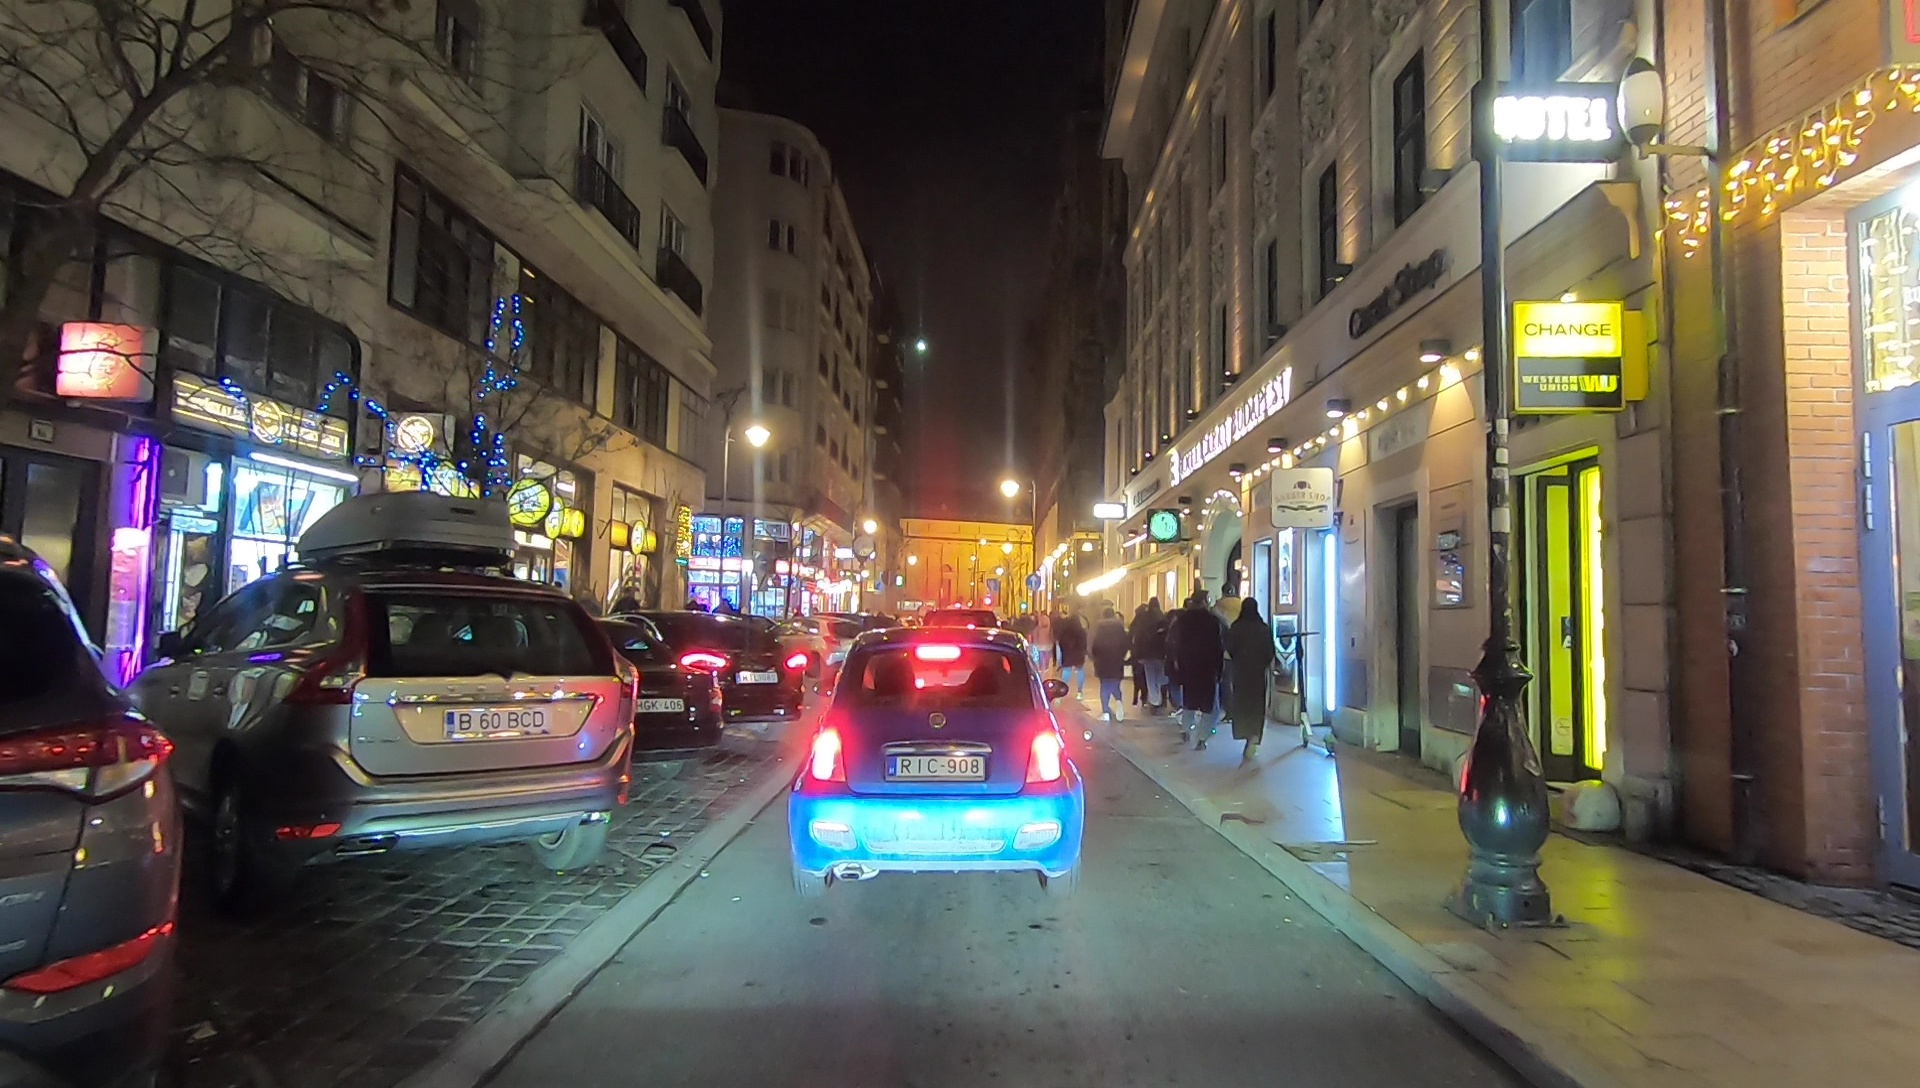person: (1179, 592, 1219, 746), (1231, 603, 1265, 757), (1094, 605, 1127, 725), (1142, 599, 1165, 713), (1063, 613, 1087, 696), (1035, 610, 1053, 668)
